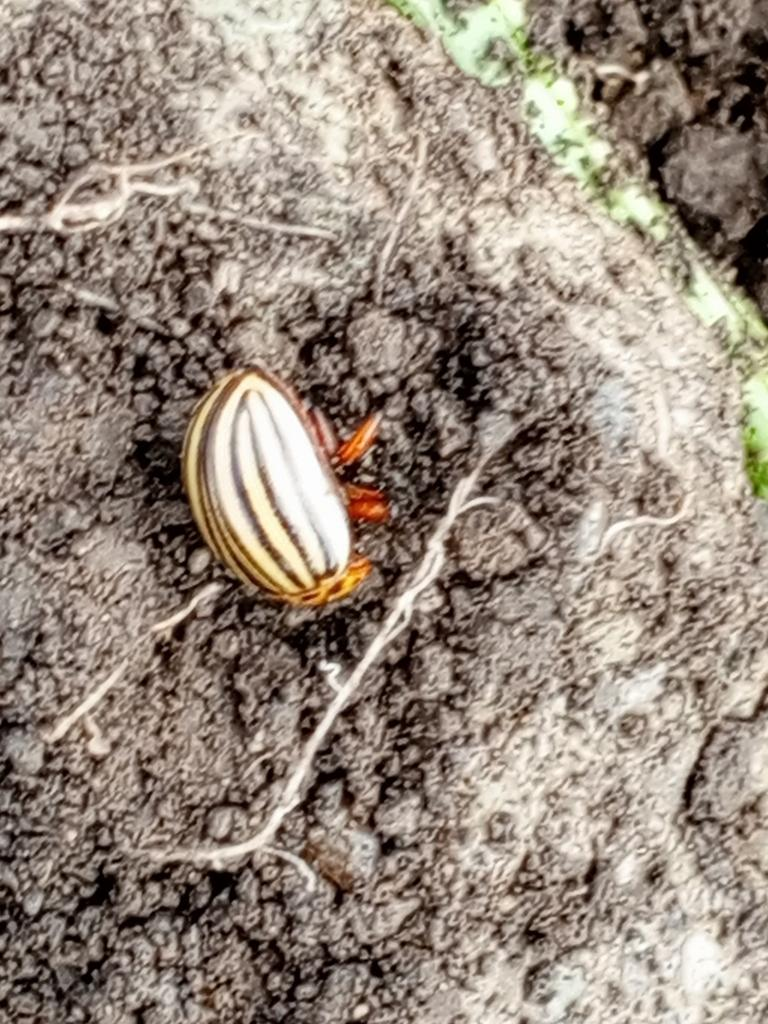potato_beetle: (131, 331, 434, 641)
